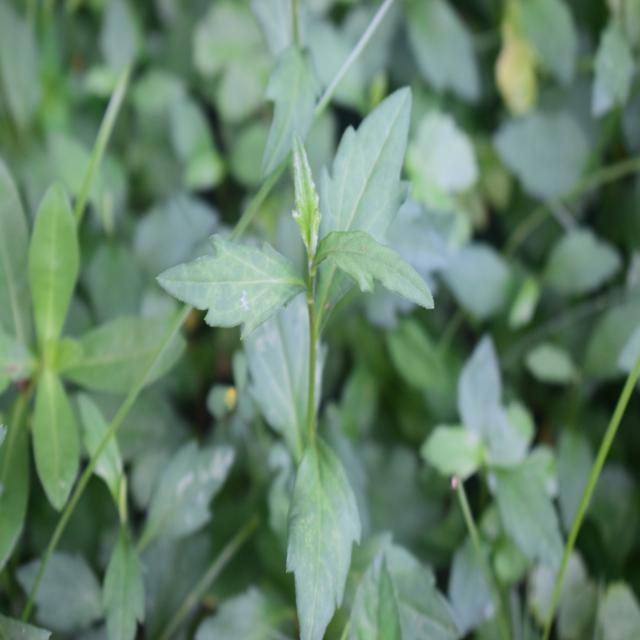Indian aster: (173, 99, 414, 604)
